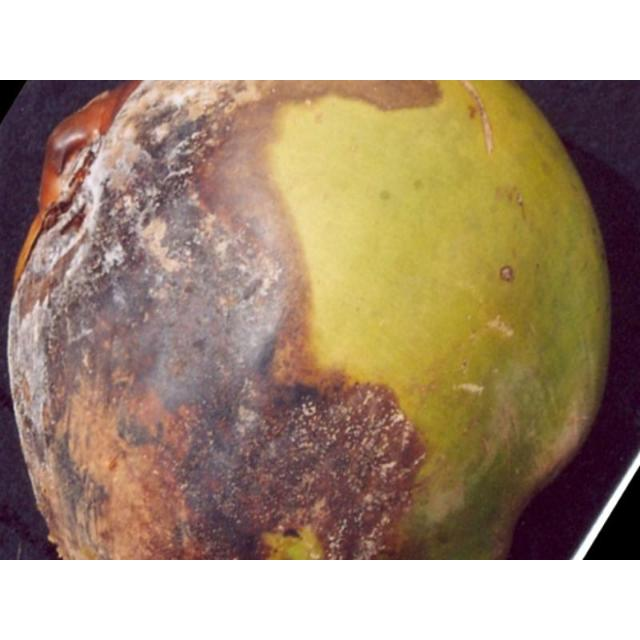damaged: (10, 80, 607, 559)
